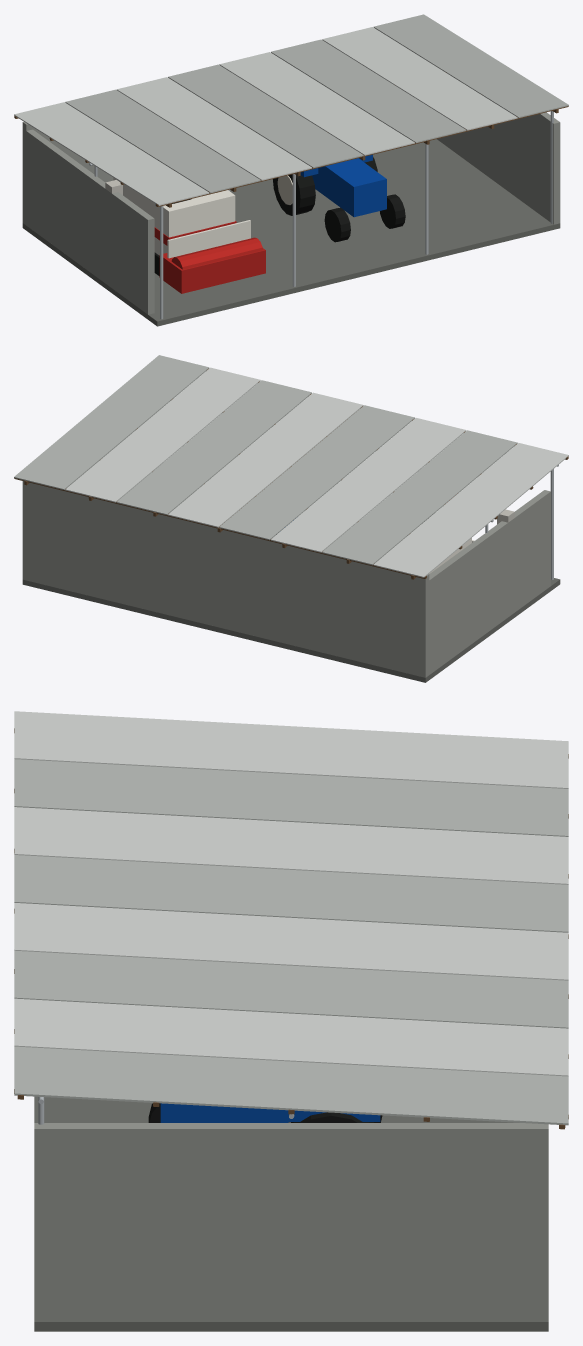
File: lares_farm_machinery_shed_1.glb
3 views of the same model, one above another, from view 1: azimuth 30°, elevation 25°; view 2: azimuth 150°, elevation 25°; view 3: azimuth 270°, elevation 25° (orthographic). The views are drawn at different scales.
Visible parts, largest first — view 1: FMS1_CombinedMesh; view 2: FMS1_CombinedMesh; view 3: FMS1_CombinedMesh.
Boxes of the visible parts, x1,y1,x2,y2 form: FMS1_CombinedMesh: (14, 14, 568, 326); FMS1_CombinedMesh: (14, 355, 568, 682); FMS1_CombinedMesh: (14, 711, 568, 1331).
Size of the model in its own units: 10.22 by 3 by 6.26.
